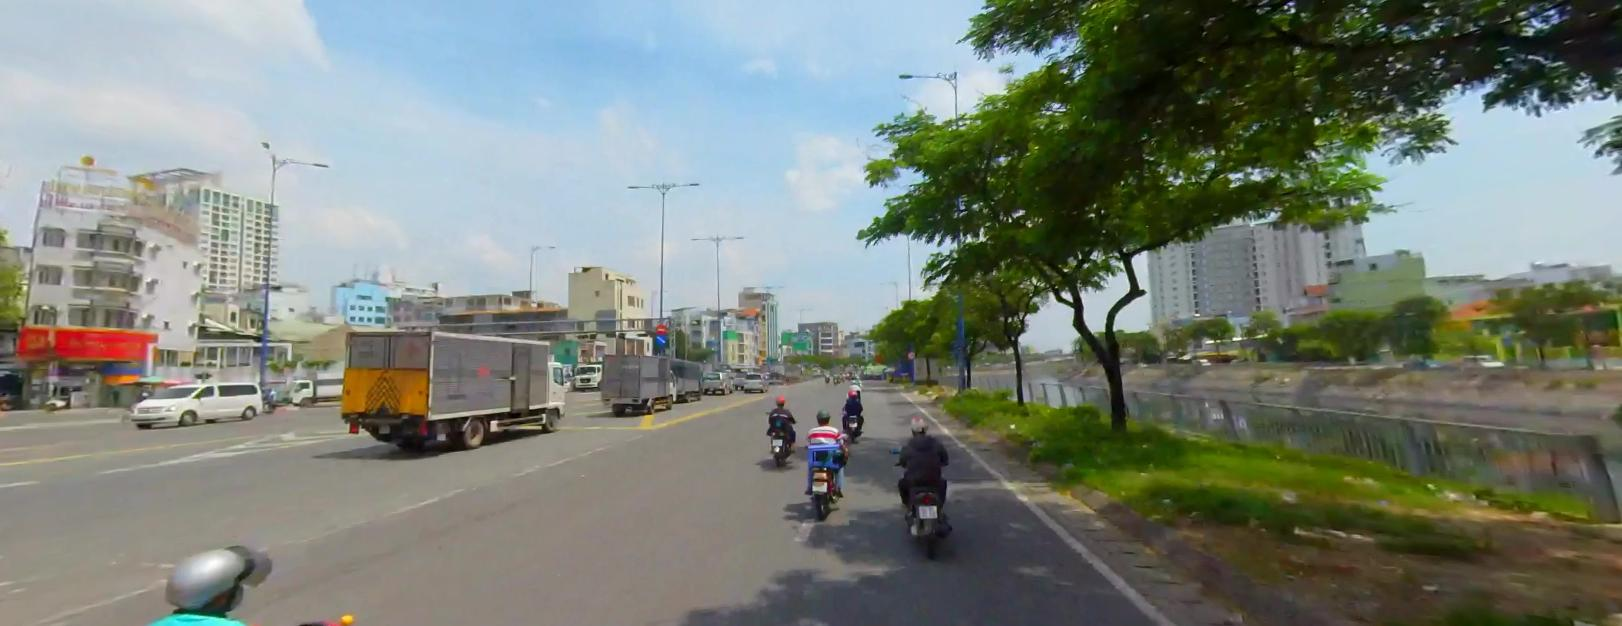Cam nguoc chieu: (656, 323, 666, 332)
Hieu lenh: (656, 333, 666, 344)
